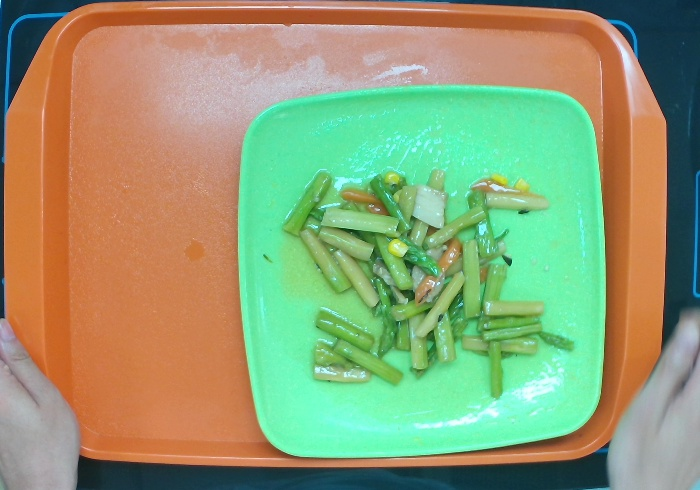ZNLD-Lv_Fang_Pan: (231, 82, 608, 462)
